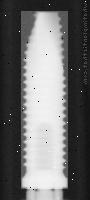Zimmer: (16, 11, 68, 189)
